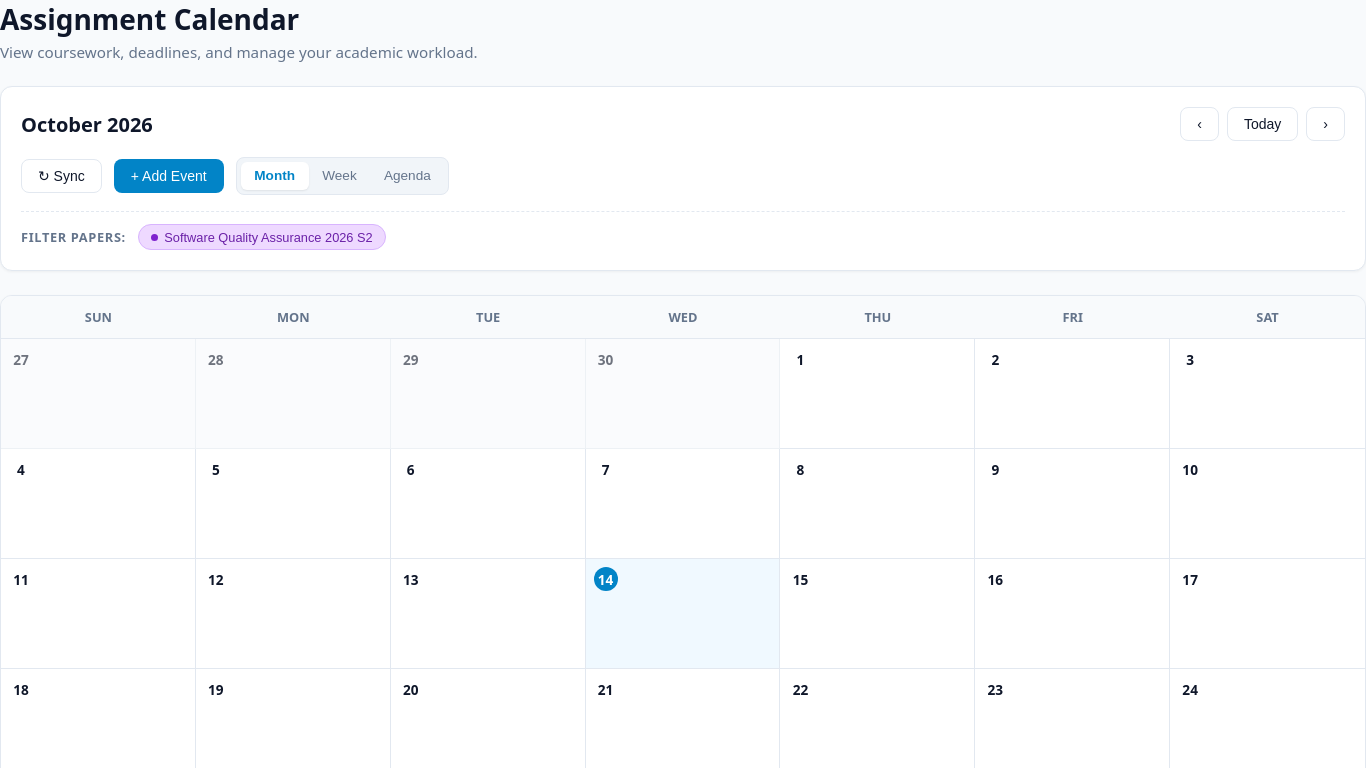
Test: Calendar - custom events (FR-05) › TC-13: shows a user-entered custom event on the calendar after the form is submitted
Click the button "Agenda".
click(407, 176)  # box [370,162,444,190]
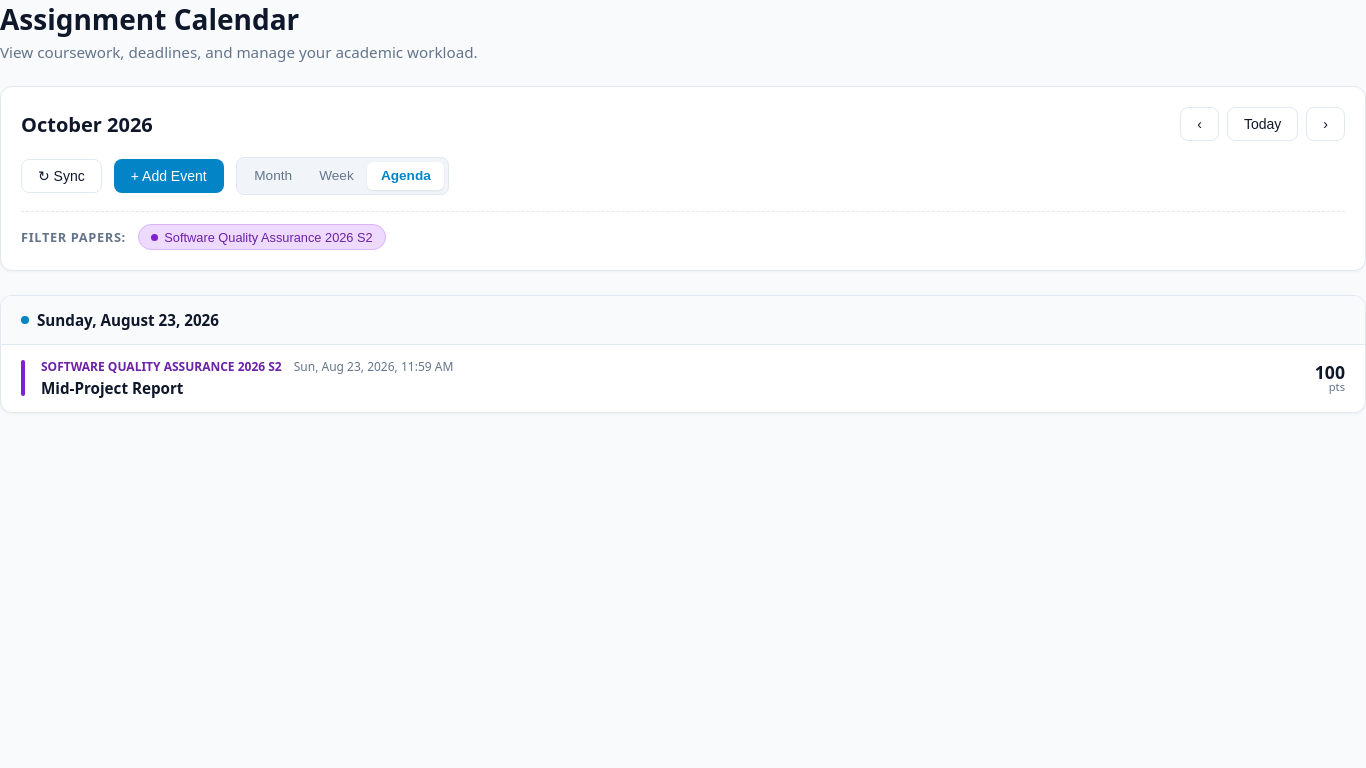
Click the button "+ Add Event".
click(169, 176)  # box [114,159,224,193]
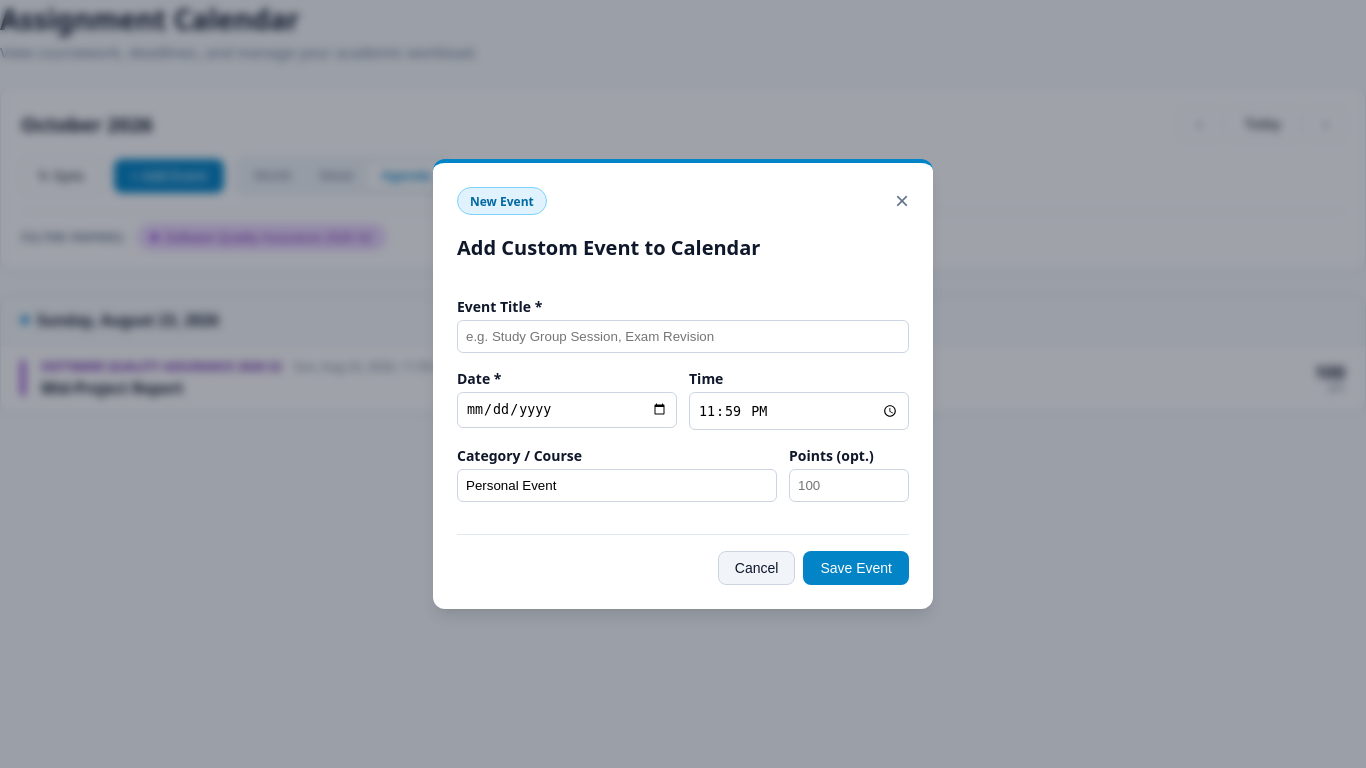
Type "Custom Study Session" into the field labelled "Event Title *".
click(683, 337); type("Custom Study Session")  # box [457,320,909,353]
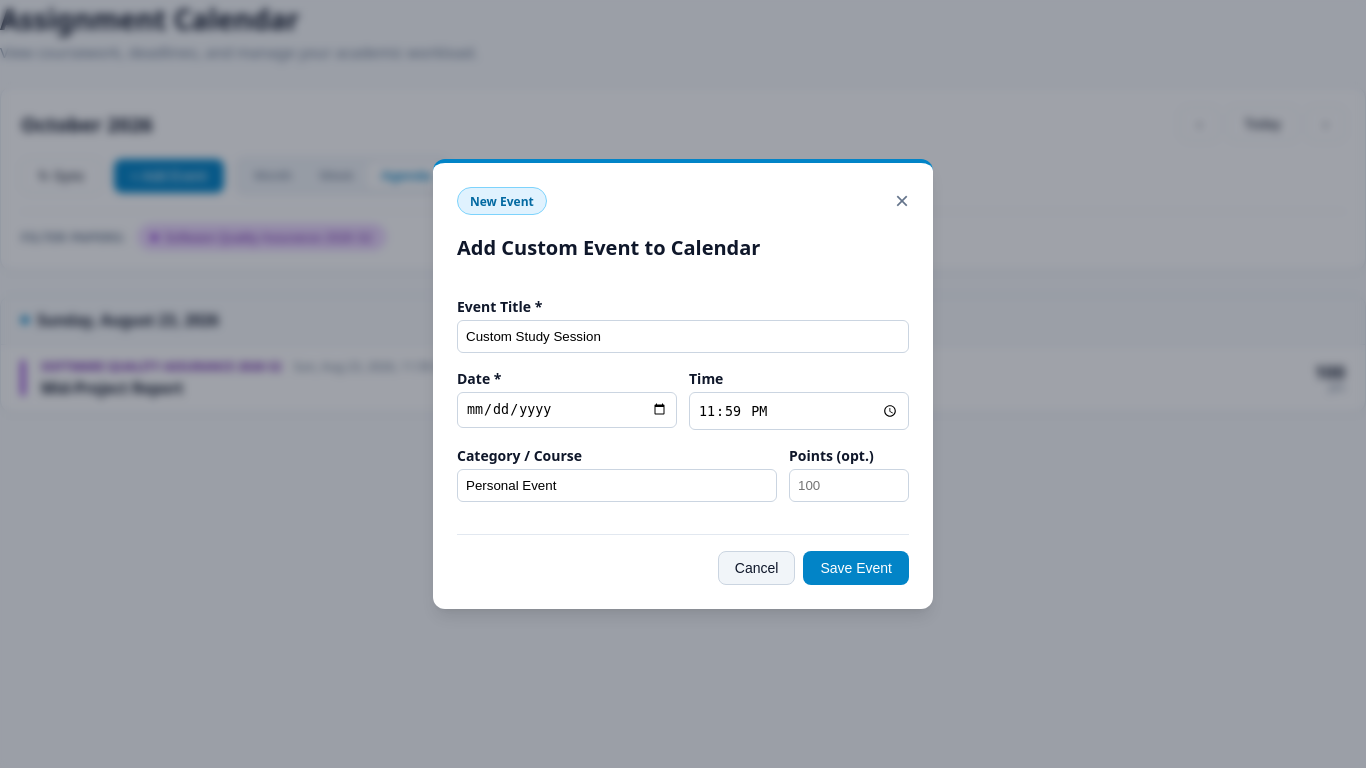
Type "2026-08-25" into the date field labelled "Date *".
click(567, 410); type("2026-08-25")  # box [457,392,677,428]
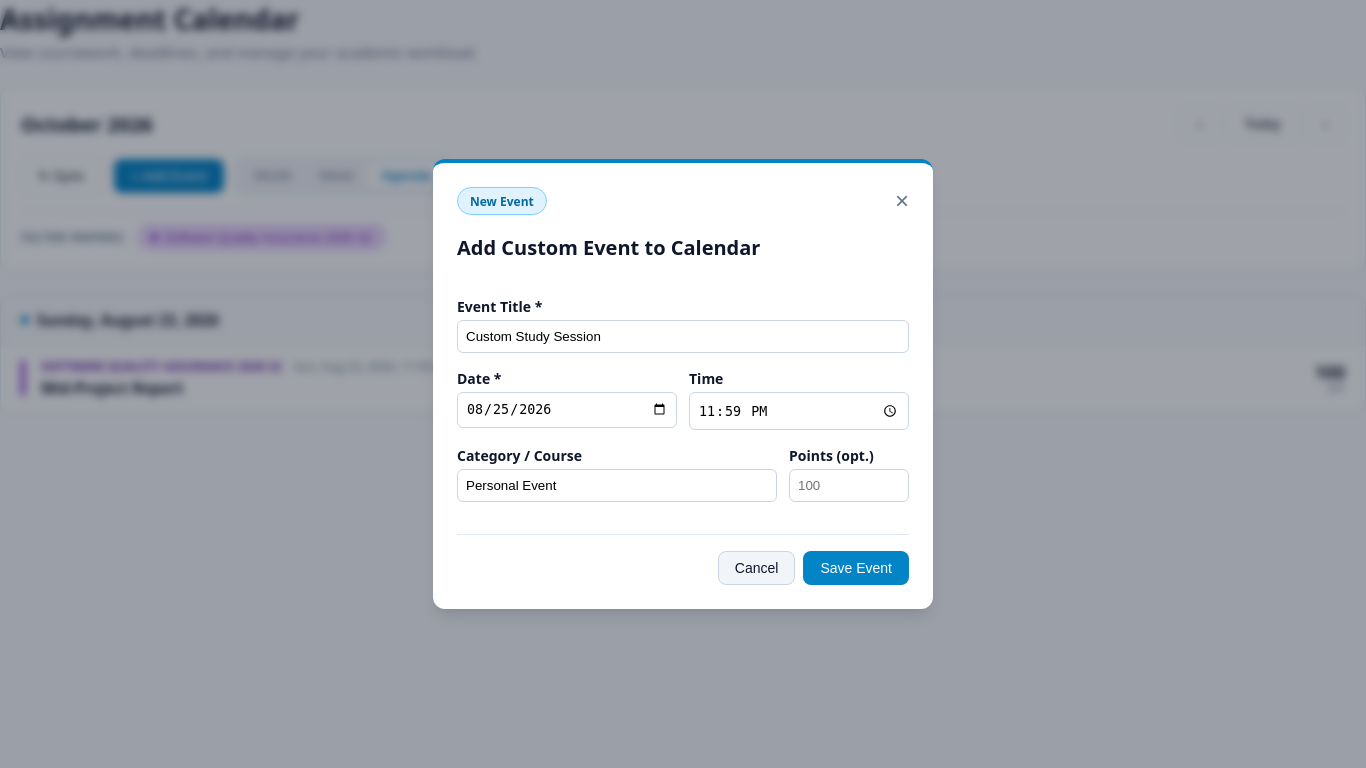
Click the button "Save Event".
click(856, 568)  # box [803,551,909,585]
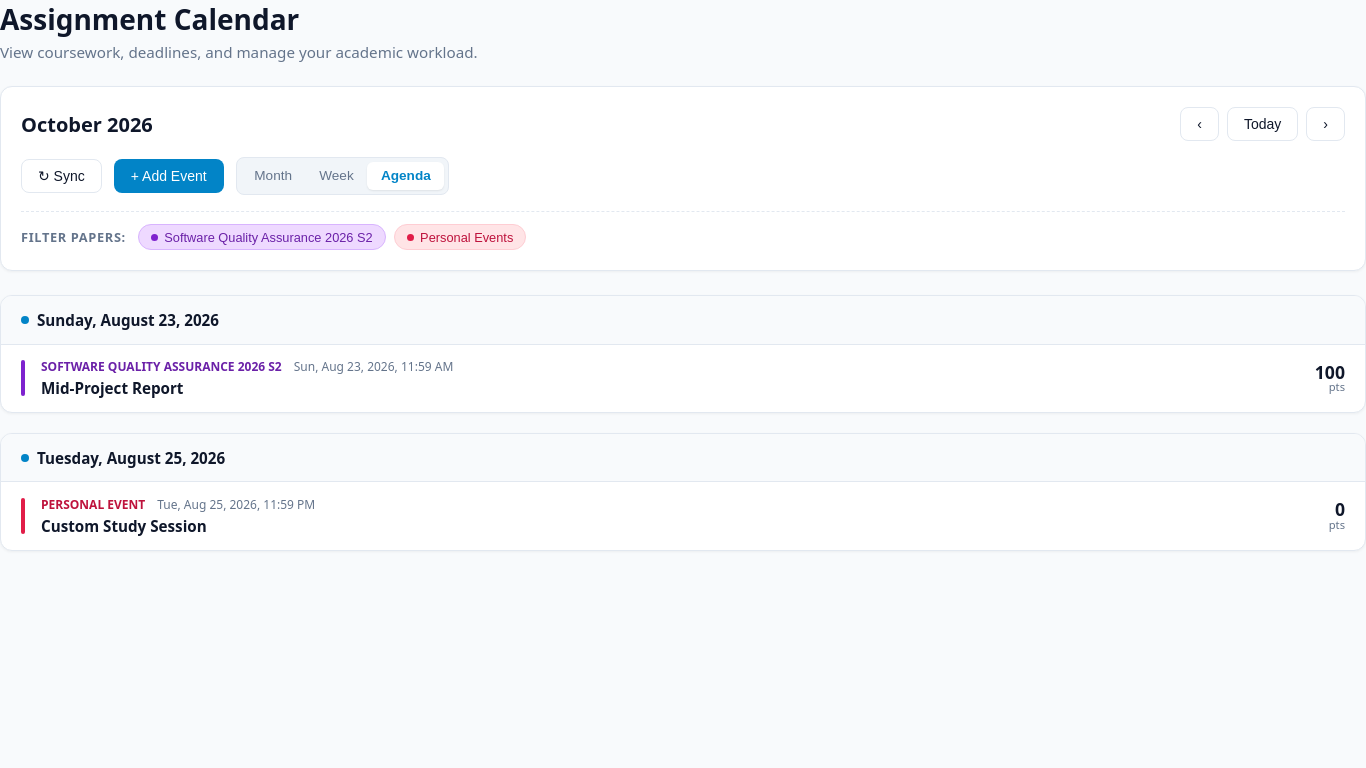
Now the heading "Custom Study Session" is shown, box [41,516,207,536]
Now the text "Personal Event" is shown, box [41,496,145,513]
